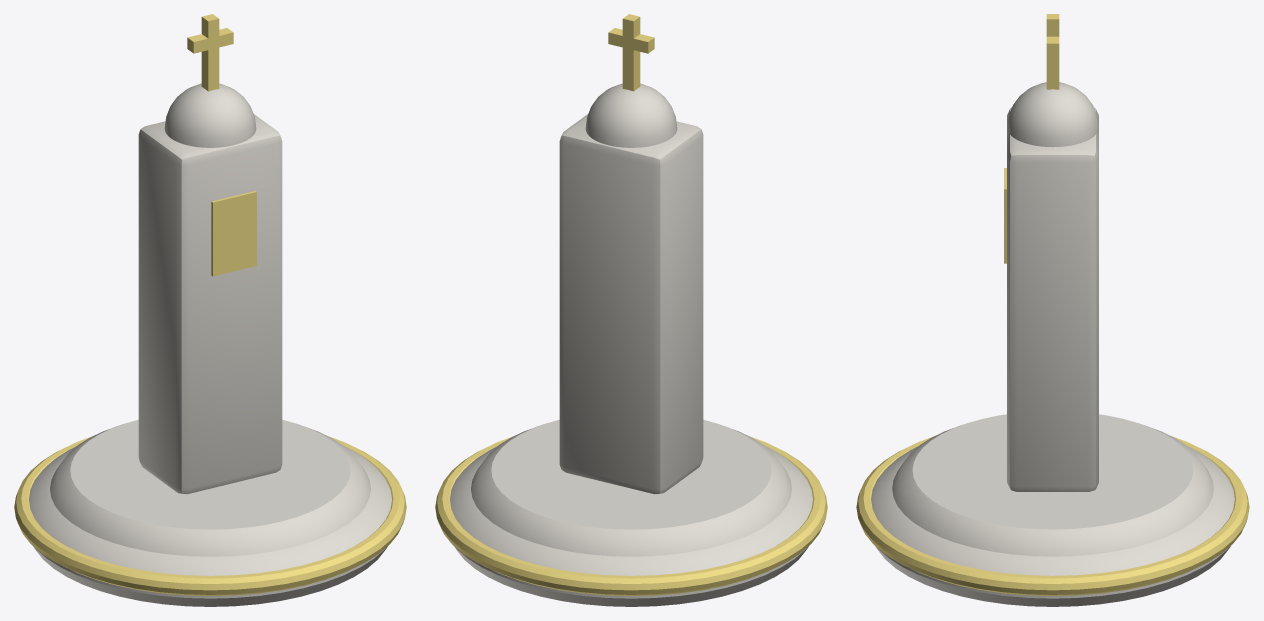
Rendered from Santorini_Alfil.fbx.
3 renders of one model, left to right at view 1: azimuth 30°, elevation 25°; view 2: azimuth 150°, elevation 25°; view 3: azimuth 270°, elevation 25°, orthographic.
Parts seen in each view (by area): view 1: Santorini_Alfil; view 2: Santorini_Alfil; view 3: Santorini_Alfil.
Part boxes in pixels (<box>): Santorini_Alfil: <box>14,14,406,606</box>; Santorini_Alfil: <box>435,14,827,606</box>; Santorini_Alfil: <box>856,14,1249,606</box>.
Size of the model in its own units: 0.77 by 1.11 by 0.77.
